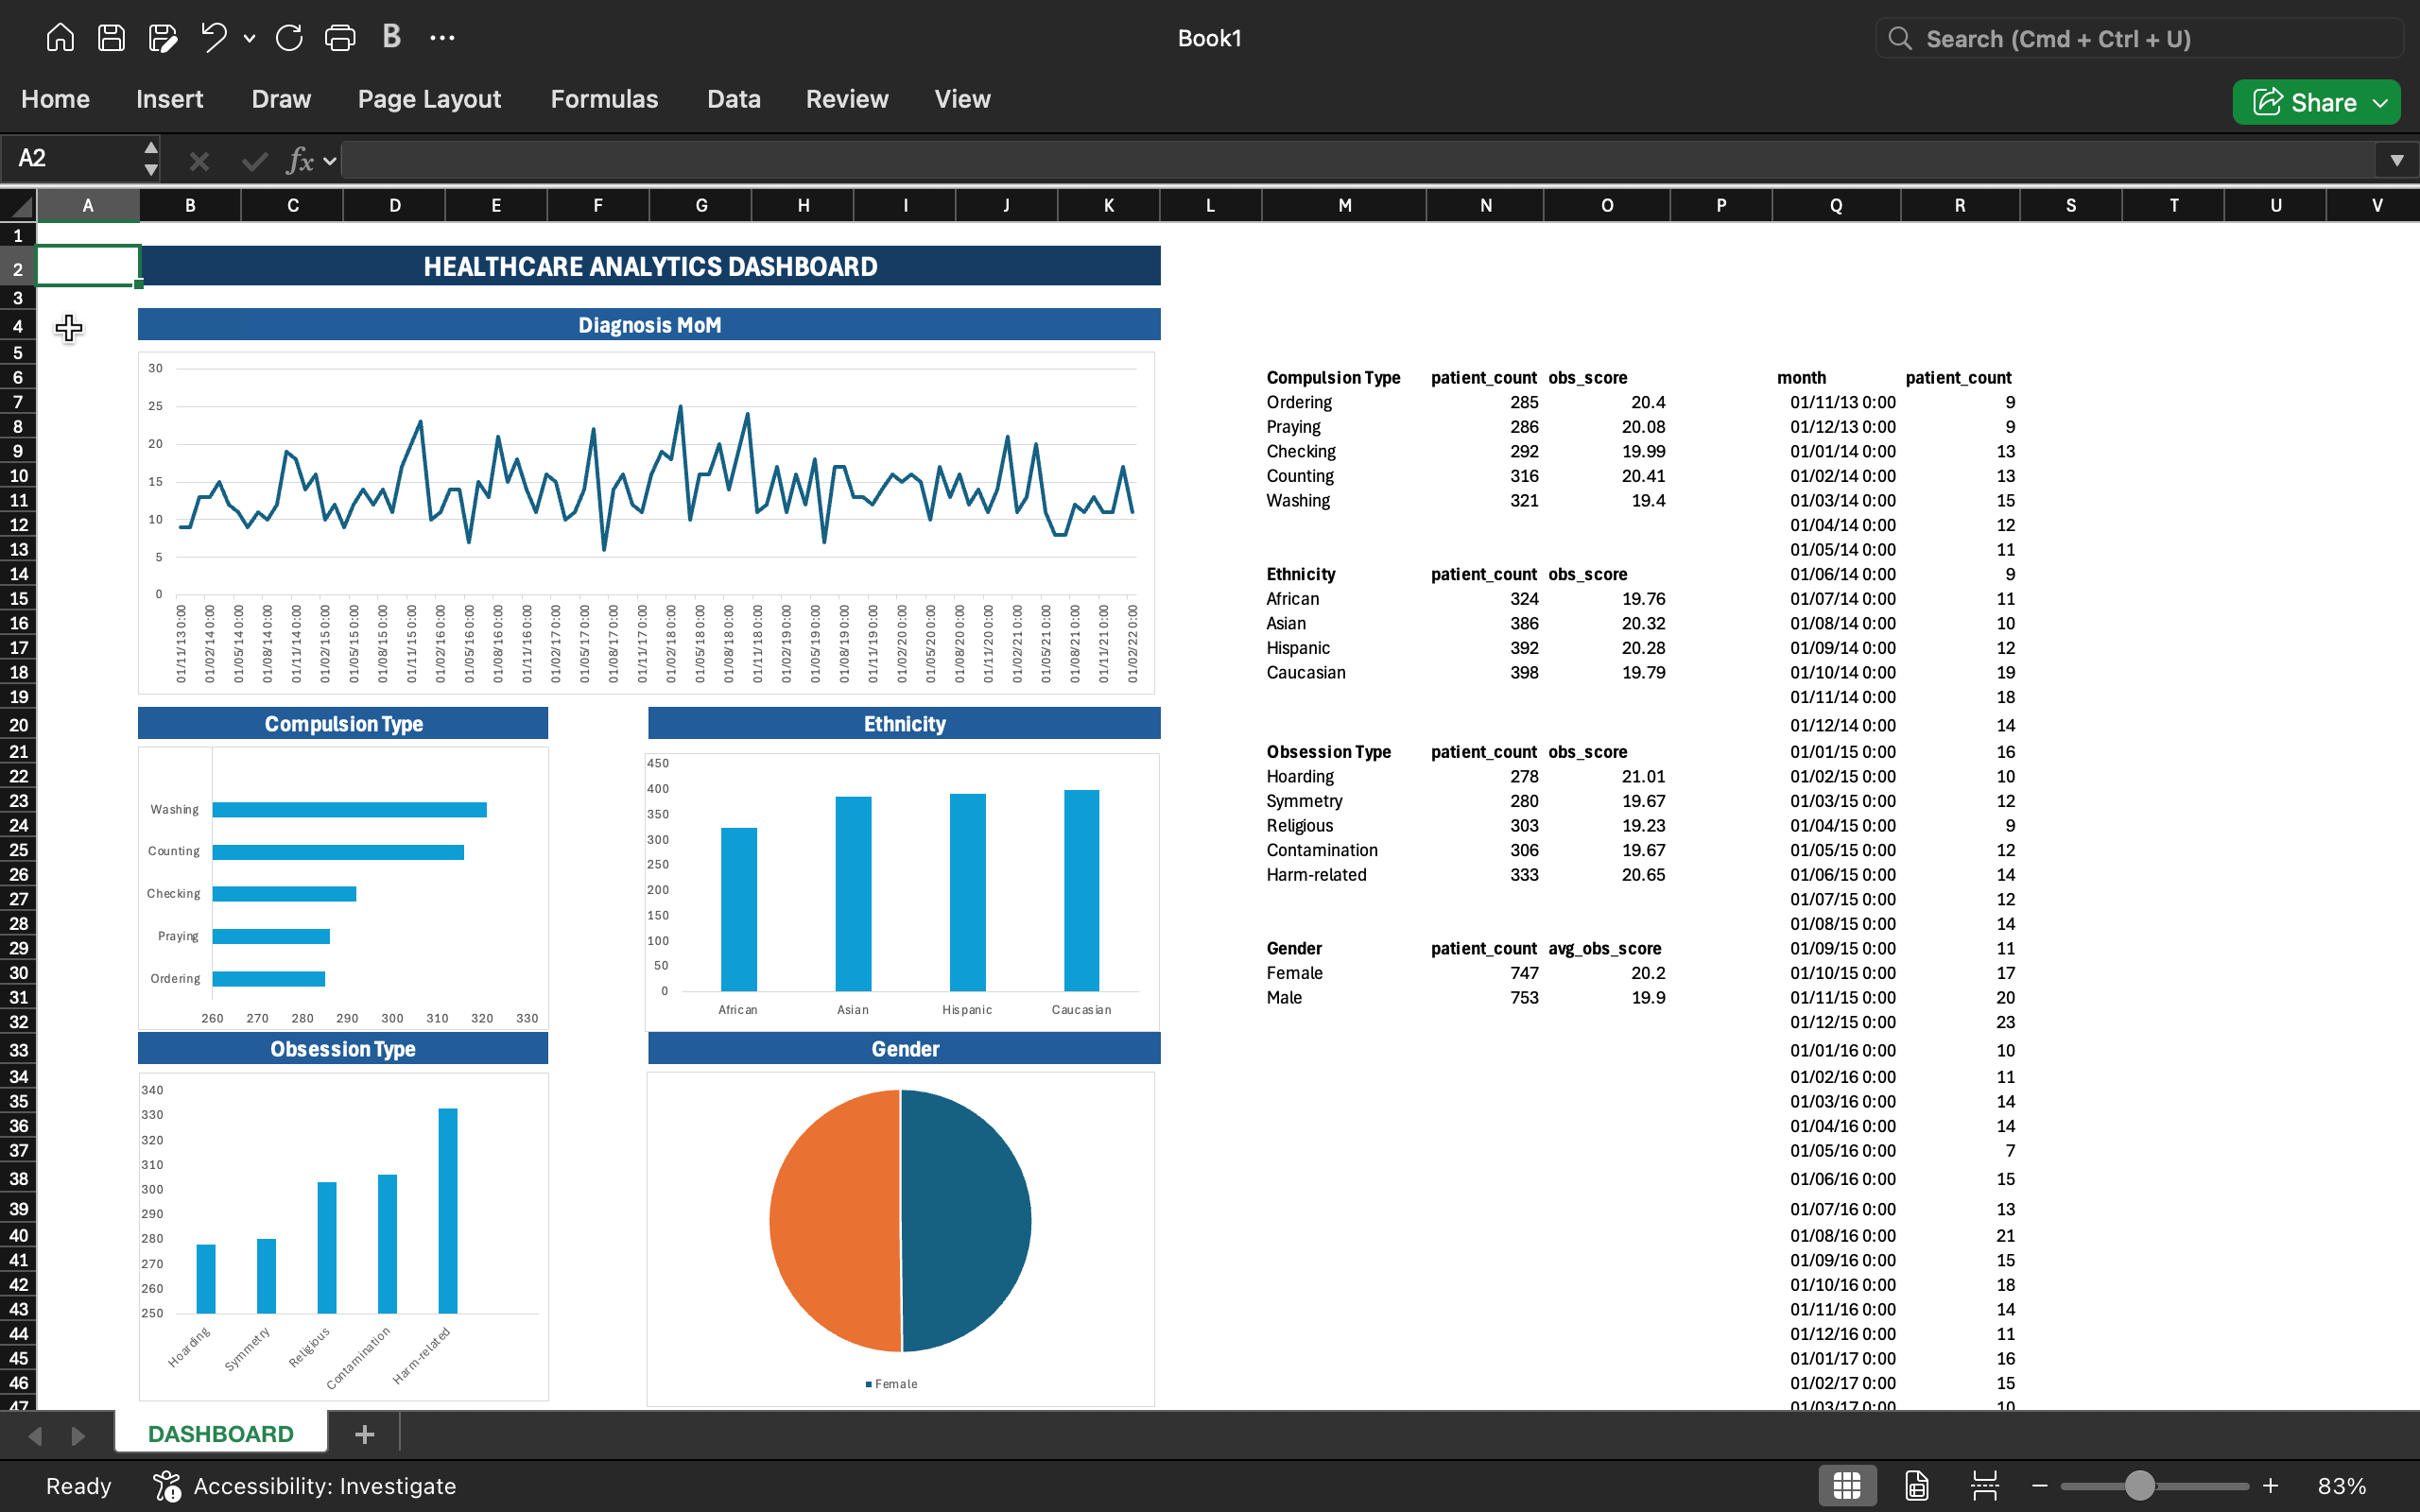

Layout of this report page (visuals, bound fields, positions):
{"tool":"powerbi","page":{"name":"Page 1","canvas":[1280,720],"ordinal":0},"visuals":[{"type":"textbox","box":[8.3,0,1271.7,56.7],"z":0},{"type":"lineChart","fields":{"Y":["Sum(diagnosis mom.patient_count)"],"Category":["diagnosis mom.month"]},"box":[0,56.7,1271.7,146.7],"z":1000},{"type":"donutChart","fields":{"Category":["gender.Gender"],"Y":["Sum(gender.patient_count)"]},"box":[0,241.7,525,246.7],"z":2000},{"type":"clusteredBarChart","fields":{"Category":["ethnicity.Ethnicity"],"Y":["Sum(ethnicity.patient_count)"],"Series":["ethnicity.patient_count"]},"box":[525,241.7,746.7,246.7],"z":3000},{"type":"columnChart","fields":{"Category":["comp_type.Compulsion Type"],"Y":["Sum(comp_type.patient_count)"]},"box":[0,488.3,640,231.7],"z":3001},{"type":"lineChart","title":"Obsession_Count against Avg_Obs_Score","fields":{"Category":["obs_type.Obsession Type"],"Y":["Sum(obs_type.patient_count)","Sum(obs_type.obs_score)"]},"box":[640,489,632,231],"z":3002}]}

Visuals, with their boxes on the page's 1280x720 design canvas (x1, y1, x2, y2). These are canvas units, not pixel positions in the 2420x1512 screenshot, which may show the page scaled, cropped or inside an application window:
textbox: (8, 0, 1280, 57)
lineChart - Sum(diagnosis mom.patient_count) x diagnosis mom.month: (0, 57, 1272, 203)
donutChart - gender.Gender x Sum(gender.patient_count): (0, 242, 525, 488)
clusteredBarChart - ethnicity.Ethnicity x Sum(ethnicity.patient_count): (525, 242, 1272, 488)
columnChart - comp_type.Compulsion Type x Sum(comp_type.patient_count): (0, 488, 640, 720)
"Obsession_Count against Avg_Obs_Score" lineChart: (640, 489, 1272, 720)
